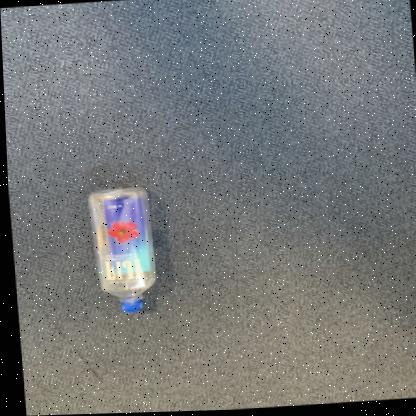Plastic: (85, 188, 152, 313)
